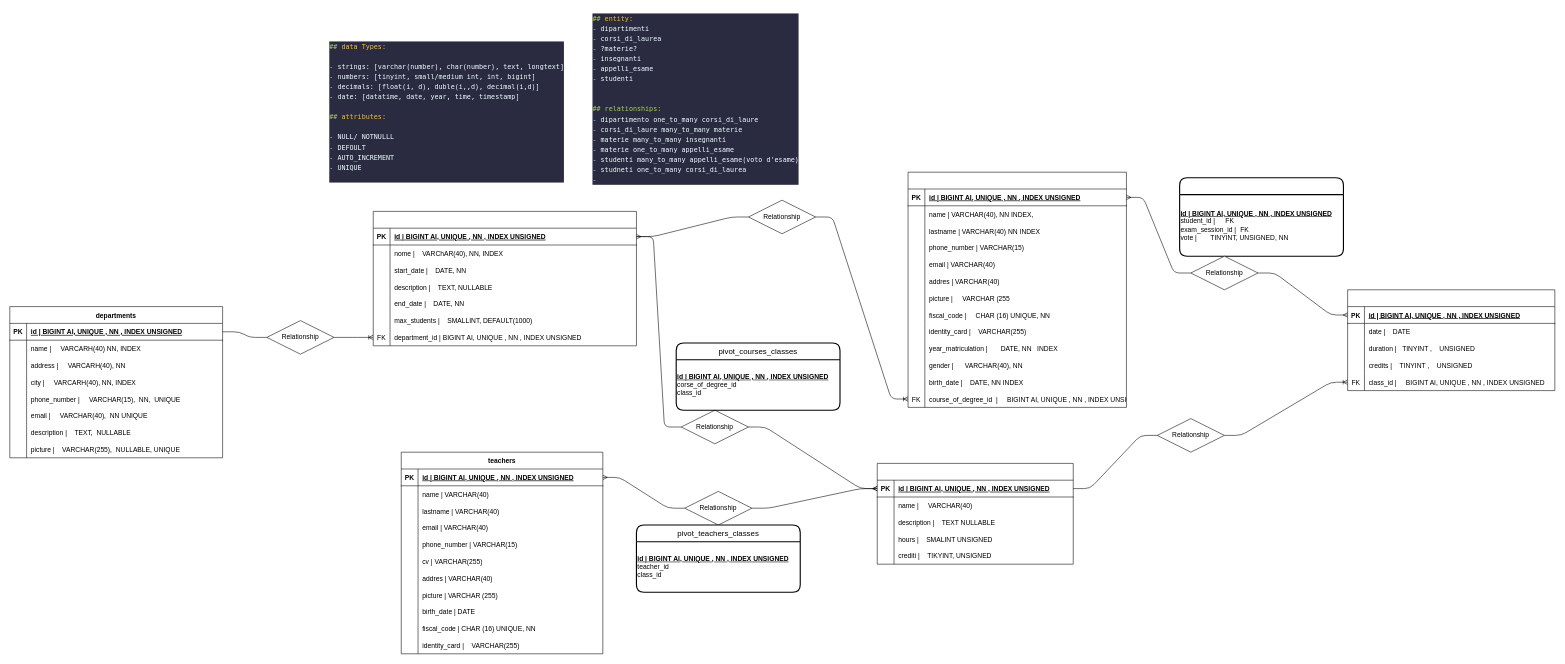
Image size: 1565x664. Some labels were removed from this diagram. The box of each missing label's shape, as (x1, y1, x2, y2) in pixels:
classes: (877, 463, 1073, 564)
course_of_degree: (373, 211, 636, 346)
exam_sessions: (1347, 289, 1555, 391)
pivot_students_exam_sessions: (1179, 177, 1344, 256)
students: (907, 172, 1126, 407)
